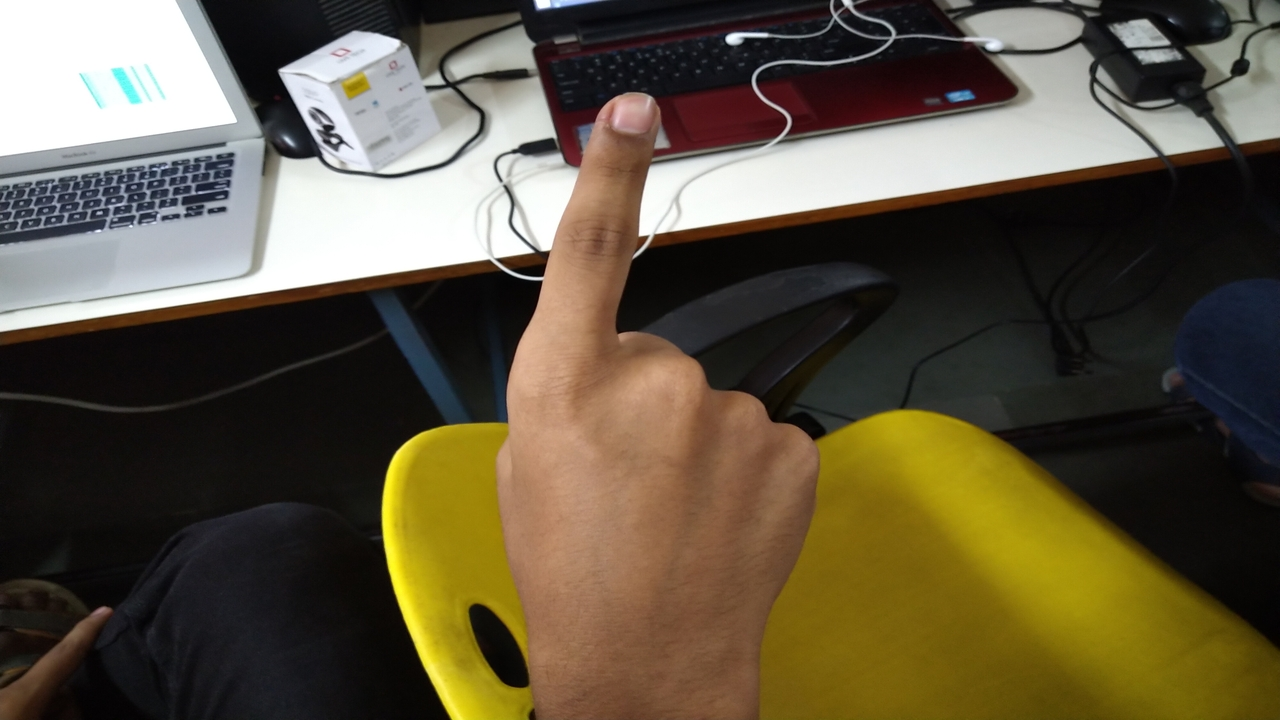fingertip: (596, 88, 666, 150)
